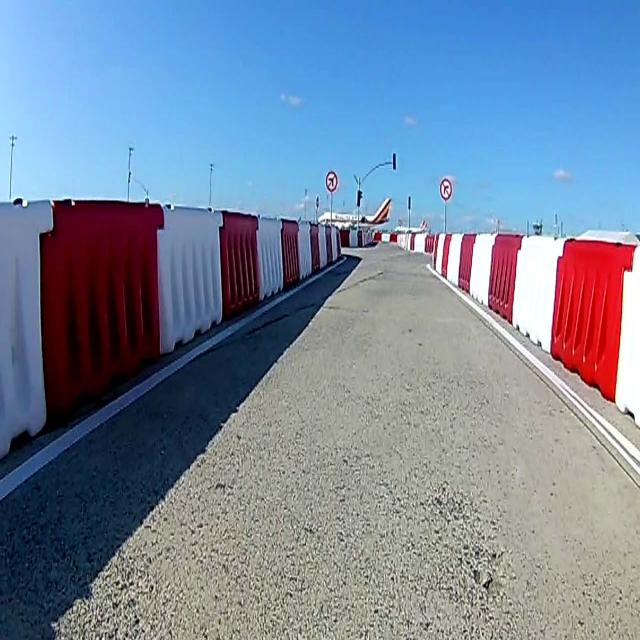sagadonulmez: (441, 179, 452, 199)
soladonulmez: (326, 170, 336, 192)
